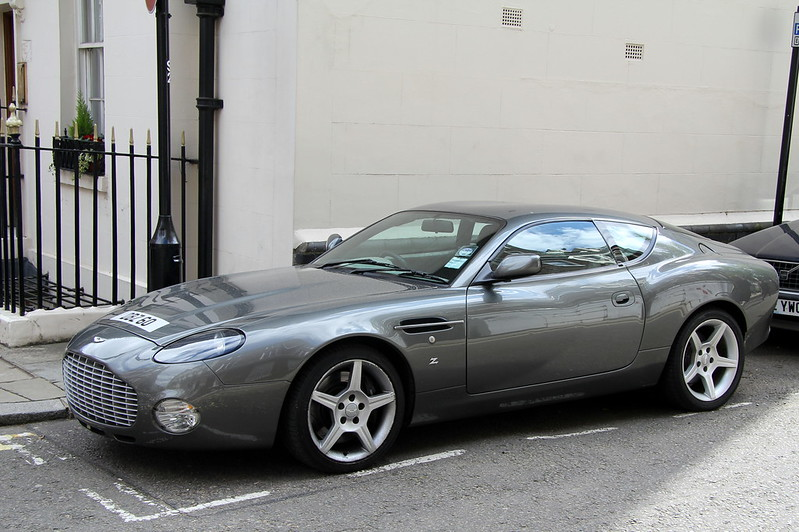car: (54, 196, 789, 465)
